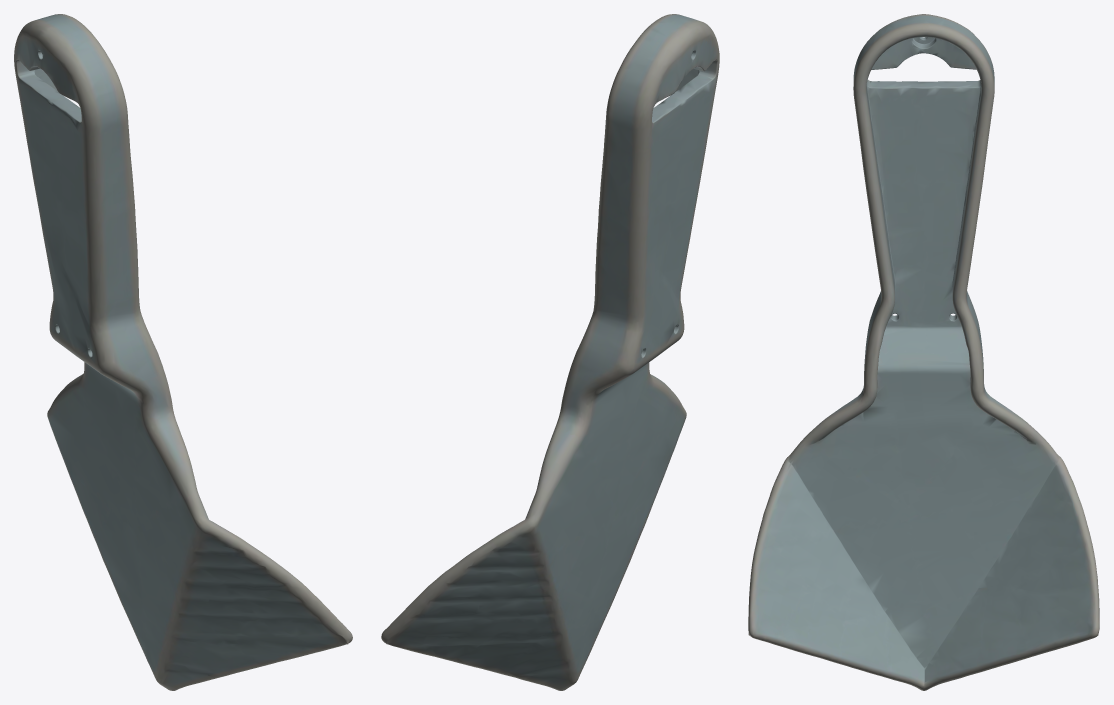
File: corner-putty-knife.glb
The picture shows the model from 3 angles, left to right: view 1: azimuth 30°, elevation 25°; view 2: azimuth 150°, elevation 25°; view 3: azimuth 270°, elevation 25°; orthographic projection. The views are drawn at different scales.
Parts seen in each view (by area): view 1: tripo_node_357e8c1b-5bf7-4b1e-a37c-6e41f1e53f8b; view 2: tripo_node_357e8c1b-5bf7-4b1e-a37c-6e41f1e53f8b; view 3: tripo_node_357e8c1b-5bf7-4b1e-a37c-6e41f1e53f8b.
Boxes of the visible parts, <box> form: tripo_node_357e8c1b-5bf7-4b1e-a37c-6e41f1e53f8b: <box>14,14,352,690</box>; tripo_node_357e8c1b-5bf7-4b1e-a37c-6e41f1e53f8b: <box>381,14,719,690</box>; tripo_node_357e8c1b-5bf7-4b1e-a37c-6e41f1e53f8b: <box>748,14,1099,690</box>.
Size of the model in its own units: 0.328 by 0.9999 by 0.5114.
1 material, 1 textured.
